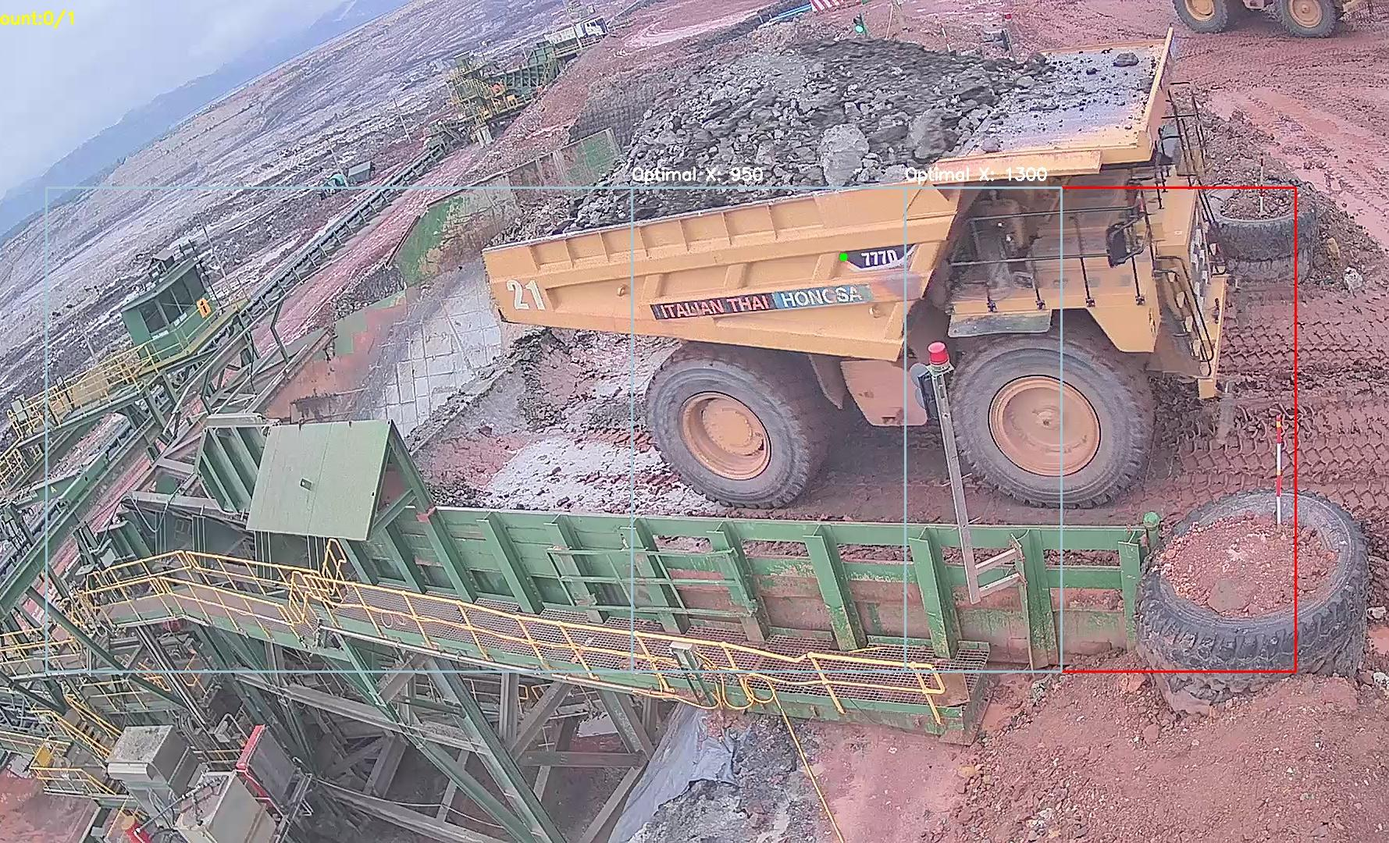company: (647, 285, 883, 325)
full_load: (575, 44, 956, 183)
mining_truck: (480, 22, 1236, 512)
tail_number: (504, 274, 553, 320)
truck_size: (842, 247, 908, 272)
